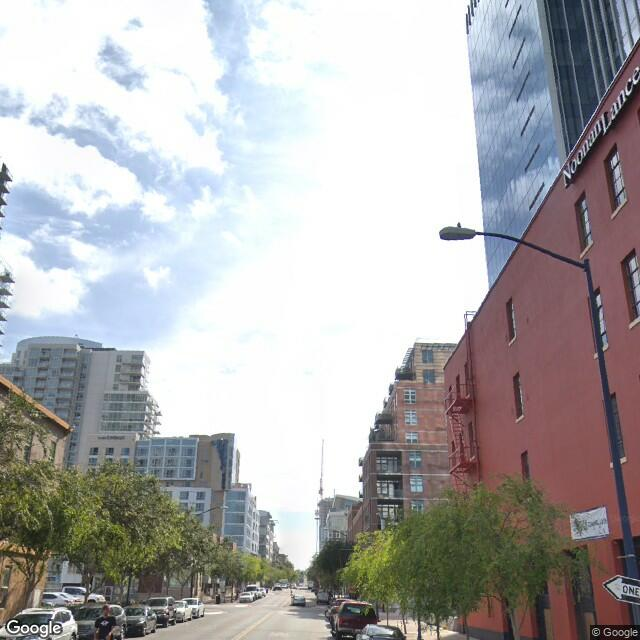light: (437, 223, 479, 244)
window: (621, 256, 640, 330)
